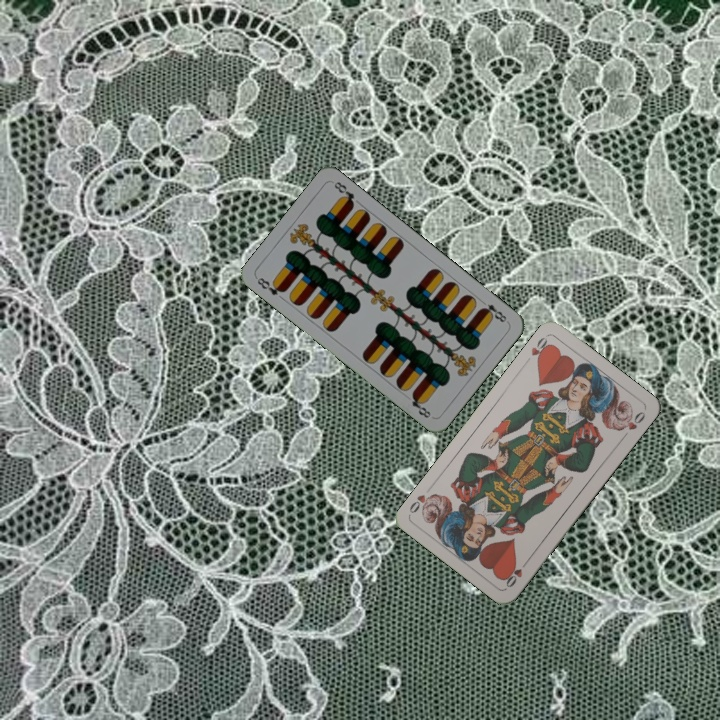E8: (477, 295, 510, 325), (253, 273, 288, 298)
HO: (521, 333, 554, 367), (501, 556, 531, 590)
